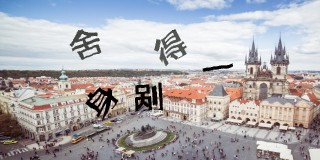一: (202, 63, 233, 72)
剐: (134, 82, 164, 113)
得: (154, 29, 188, 66)
舍: (69, 29, 101, 60)
身: (85, 87, 118, 119)
